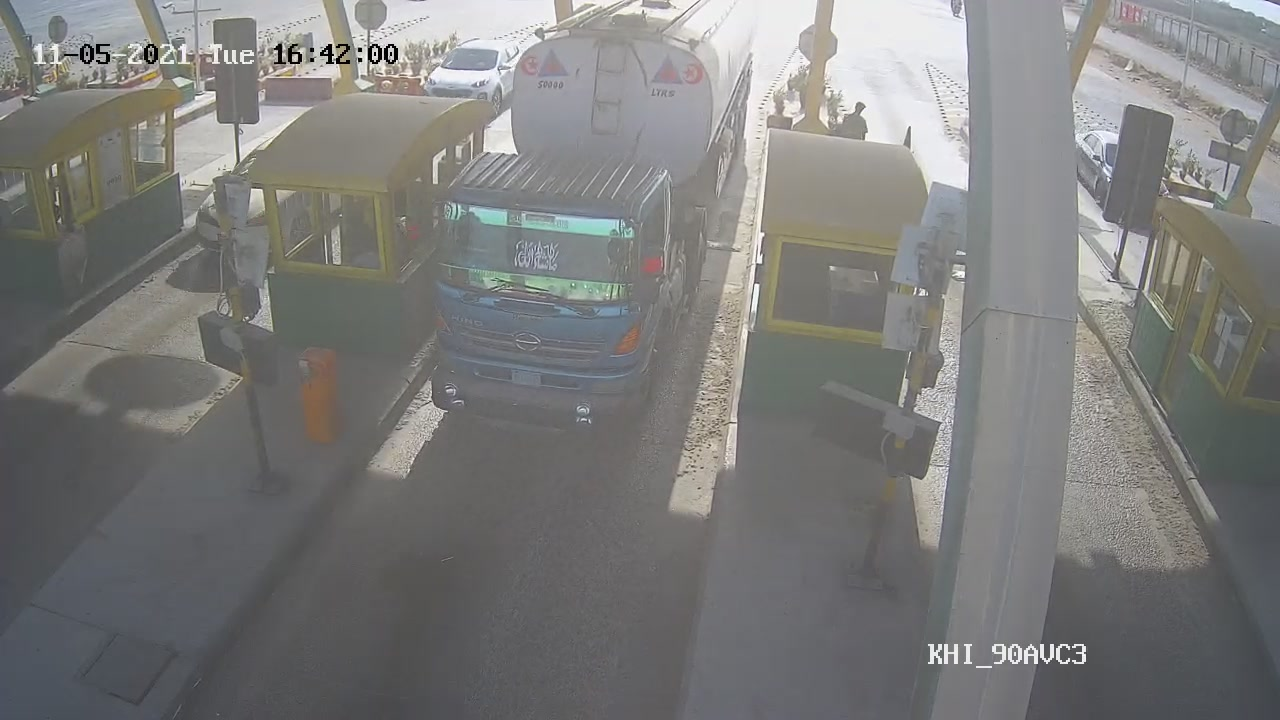F6: (407, 1, 763, 437)
